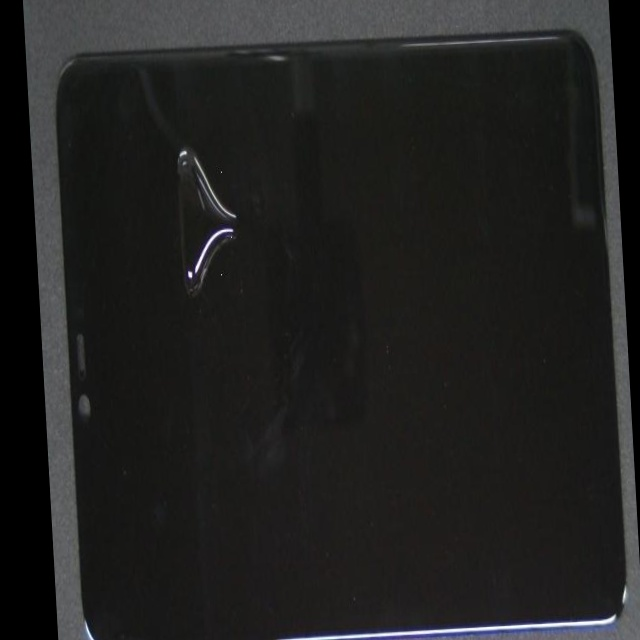oil: (95, 0, 255, 314)
